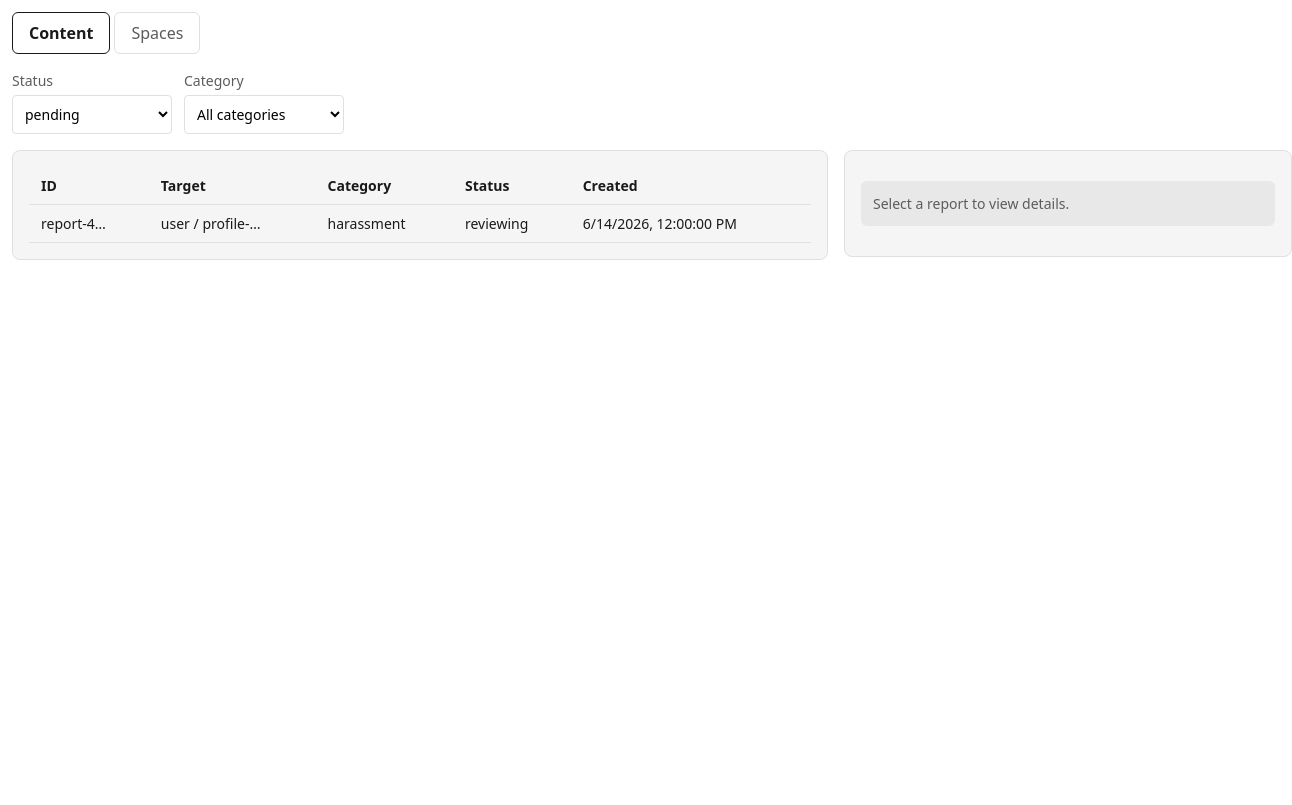
Scenario: QueuePage report close workflow › shows OAuth-aware error when staff profile id is missing
The width and height of the screenshot is (1292, 805).
Click the row with test id "report-row-report-42" at (420, 224), box [29,204,811,242]
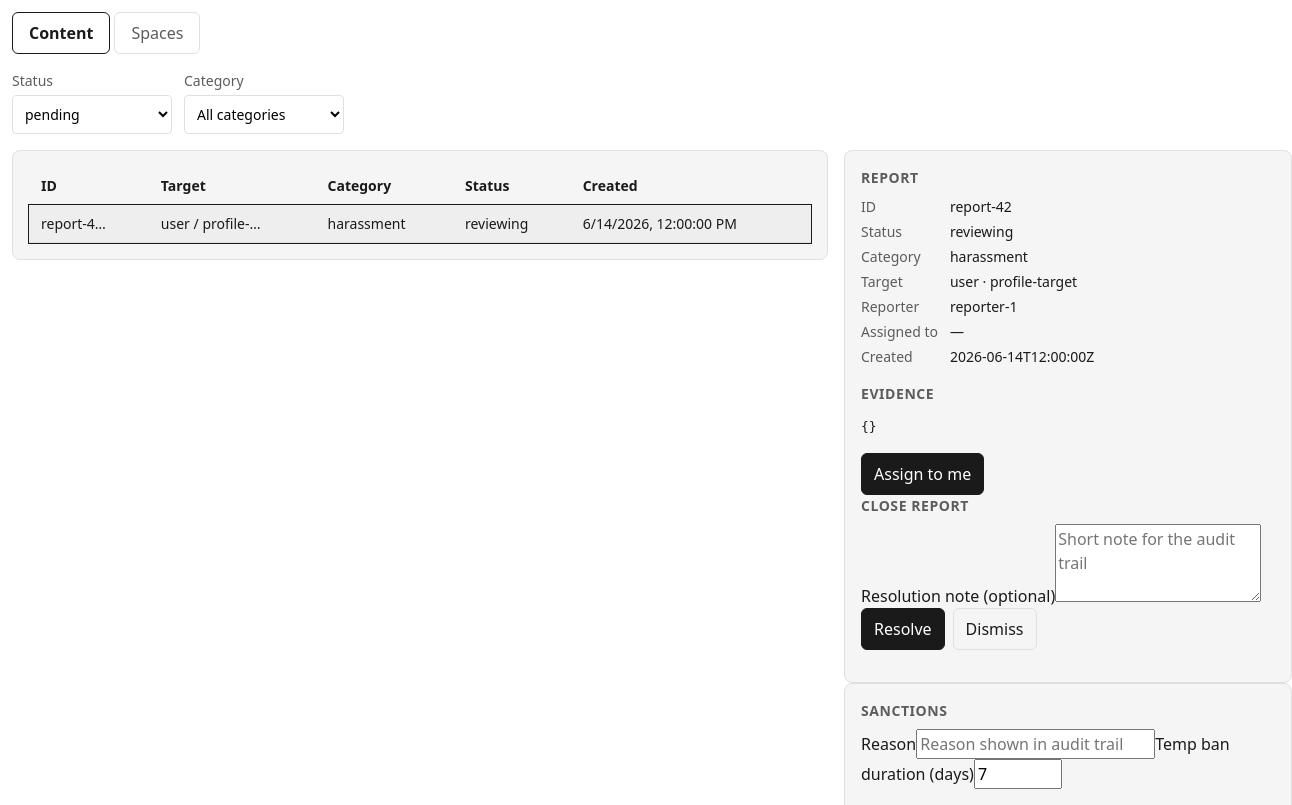
Click the button with test id "assign-to-me" at (923, 474), box [861,452,984,494]
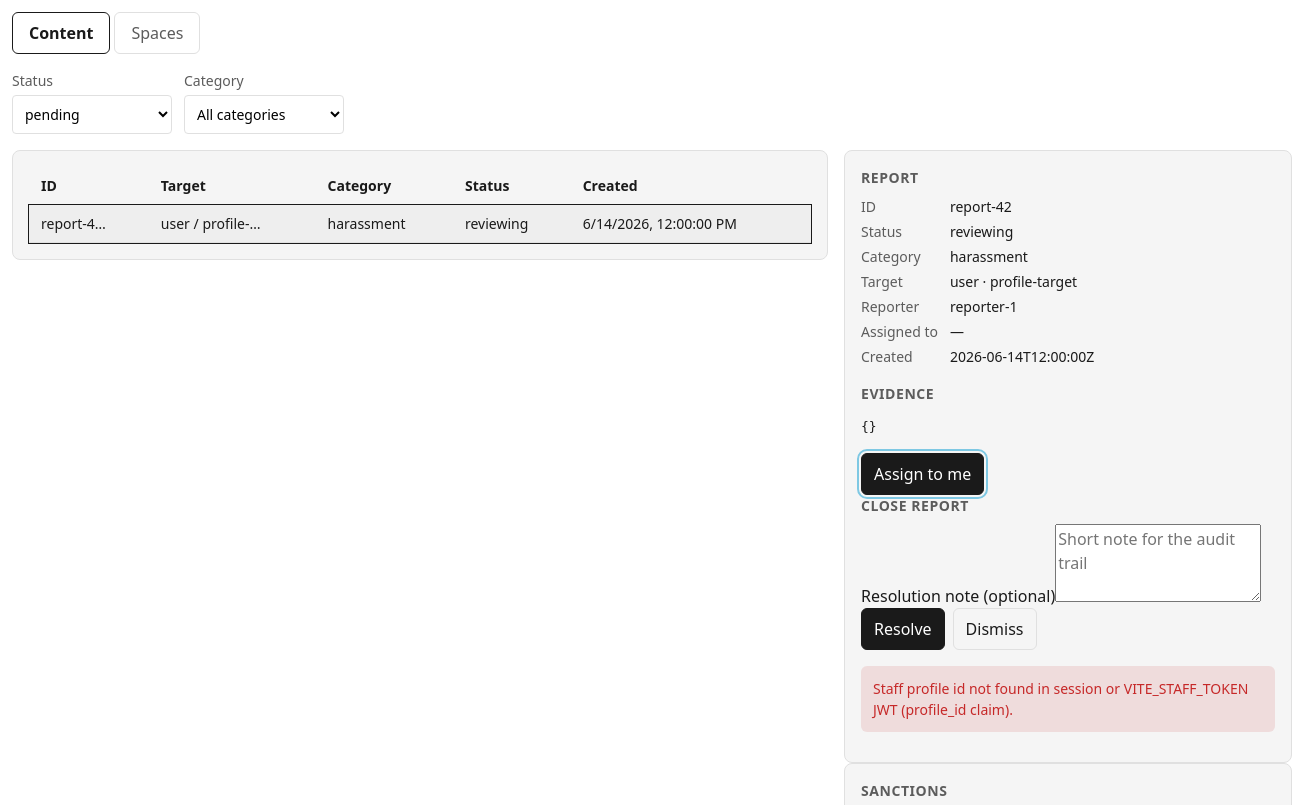
Check: the message shows "profile_id claim", box [873,678,1248,718]
